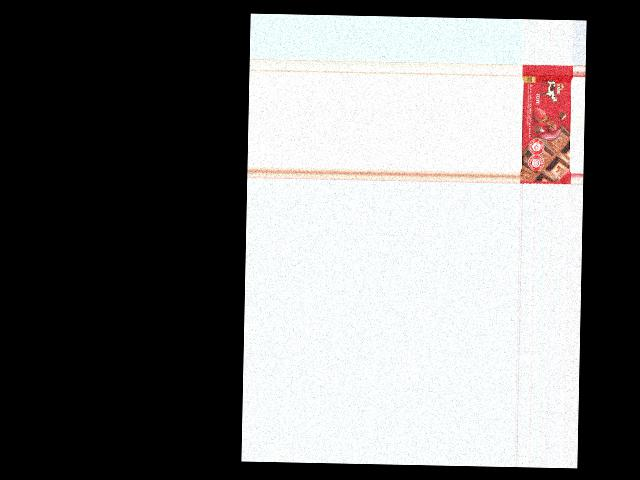chocolate: (519, 63, 572, 184)
